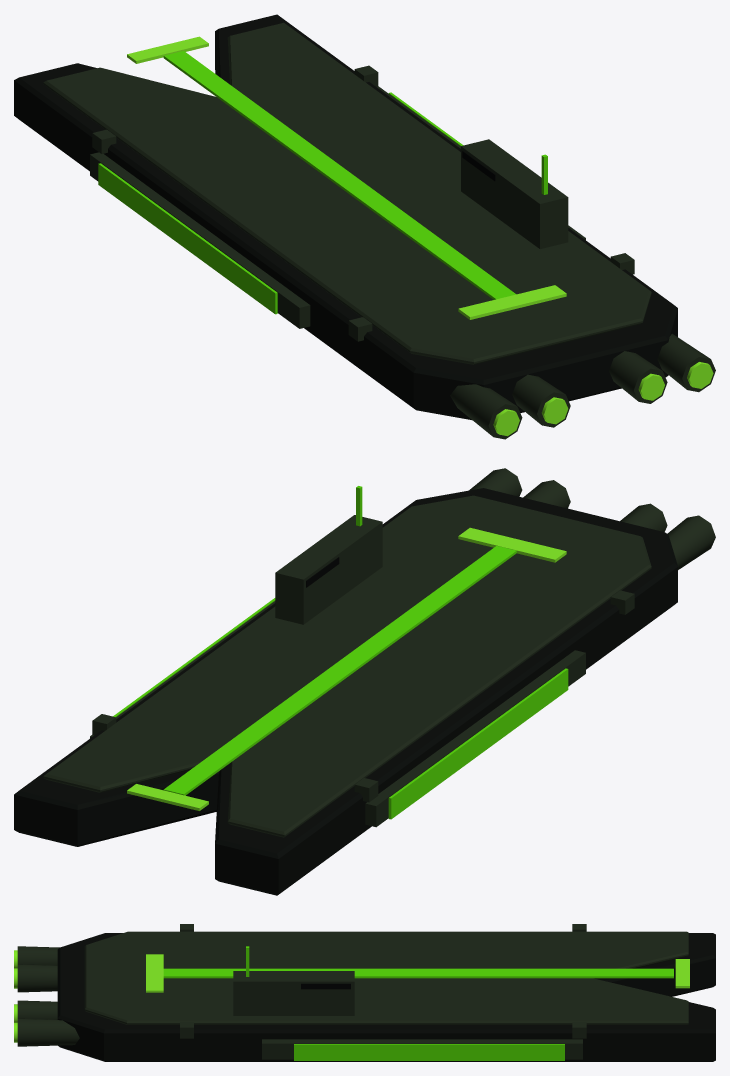
The model's file is Carrier.obj.
3 views of the same model, one above another, from view 1: azimuth 30°, elevation 25°; view 2: azimuth 150°, elevation 25°; view 3: azimuth 270°, elevation 25° (orthographic). The views are drawn at different scales.
Parts seen in each view (by area): view 1: carrier_deck, carrier_hull, carrier_deckline, carrier_island, carrier_hangar, carrier_sponson, carrier_engine_o_nacelle, carrier_engine_i_nacelle, carrier_rib, carrier_baylight, carrier_engine_o_bell, carrier_engine_i_bell (+1 smaller); view 2: carrier_deck, carrier_hull, carrier_deckline, carrier_island, carrier_hangar, carrier_sponson, carrier_engine_o_nacelle, carrier_engine_i_nacelle, carrier_baylight, carrier_rib, carrier_bowlight; view 3: carrier_deck, carrier_hull, carrier_island, carrier_deckline, carrier_hangar, carrier_sponson, carrier_engine_o_nacelle, carrier_engine_i_nacelle, carrier_rib, carrier_baylight, carrier_bowlight, carrier_islandglass.
Part boxes in pixels (left/top/right/bottom): carrier_deck: left=43, top=22, right=651, bottom=364; carrier_hull: left=14, top=14, right=677, bottom=419; carrier_deckline: left=163, top=51, right=516, bottom=299; carrier_island: left=461, top=139, right=568, bottom=248; carrier_hangar: left=98, top=92, right=463, bottom=314; carrier_sponson: left=90, top=86, right=585, bottom=328; carrier_engine_o_nacelle: left=450, top=333, right=715, bottom=439; carrier_engine_i_nacelle: left=512, top=351, right=667, bottom=427; carrier_rib: left=92, top=65, right=634, bottom=341; carrier_baylight: left=458, top=285, right=566, bottom=319; carrier_engine_o_bell: left=493, top=362, right=713, bottom=436; carrier_engine_i_bell: left=541, top=373, right=664, bottom=424; carrier_deck: left=43, top=495, right=651, bottom=837; carrier_hull: left=14, top=488, right=677, bottom=895; carrier_deckline: left=163, top=546, right=516, bottom=795; carrier_island: left=275, top=515, right=382, bottom=624; carrier_hangar: left=113, top=598, right=568, bottom=819; carrier_sponson: left=90, top=601, right=585, bottom=827; carrier_engine_o_nacelle: left=469, top=468, right=715, bottom=569; carrier_engine_i_nacelle: left=523, top=480, right=667, bottom=531; carrier_baylight: left=458, top=527, right=566, bottom=562; carrier_rib: left=92, top=590, right=634, bottom=802; carrier_bowlight: left=127, top=784, right=208, bottom=810; carrier_deck: left=84, top=931, right=688, bottom=1024; carrier_hull: left=57, top=933, right=715, bottom=1061; carrier_island: left=233, top=971, right=354, bottom=1015; carrier_deckline: left=163, top=968, right=673, bottom=978; carrier_hangar: left=294, top=1044, right=564, bottom=1060; carrier_sponson: left=262, top=1039, right=582, bottom=1059; carrier_engine_o_nacelle: left=17, top=946, right=79, bottom=1046; carrier_engine_i_nacelle: left=17, top=964, right=57, bottom=1019; carrier_rib: left=180, top=924, right=586, bottom=1038; carrier_baylight: left=146, top=954, right=163, bottom=992; carrier_bowlight: left=675, top=959, right=689, bottom=988; carrier_islandglass: left=301, top=983, right=350, bottom=989.
Size of the model in its own units: 79.34 by 34.21 by 215.
